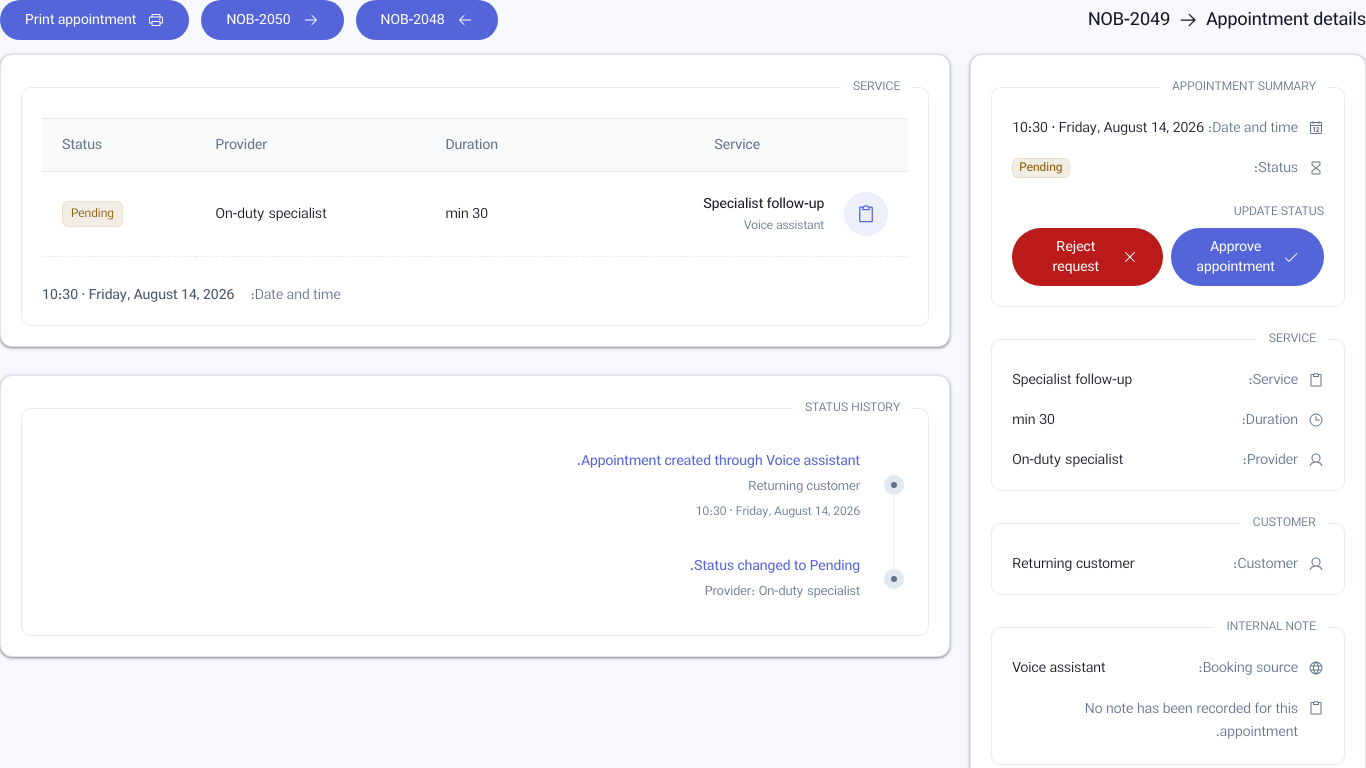
Test: reservation operations › uses the route id and enforces valid appointment status transitions
Expected: the text "NOB-2049" is shown, x1=1088 y1=6 x2=1170 y2=34
Expected: the button "Print appointment" is shown, x1=0 y1=0 x2=190 y2=40
Click the button "Approve appointment". click: (1248, 257)
box: x1=1172 y1=228 x2=1324 y2=286
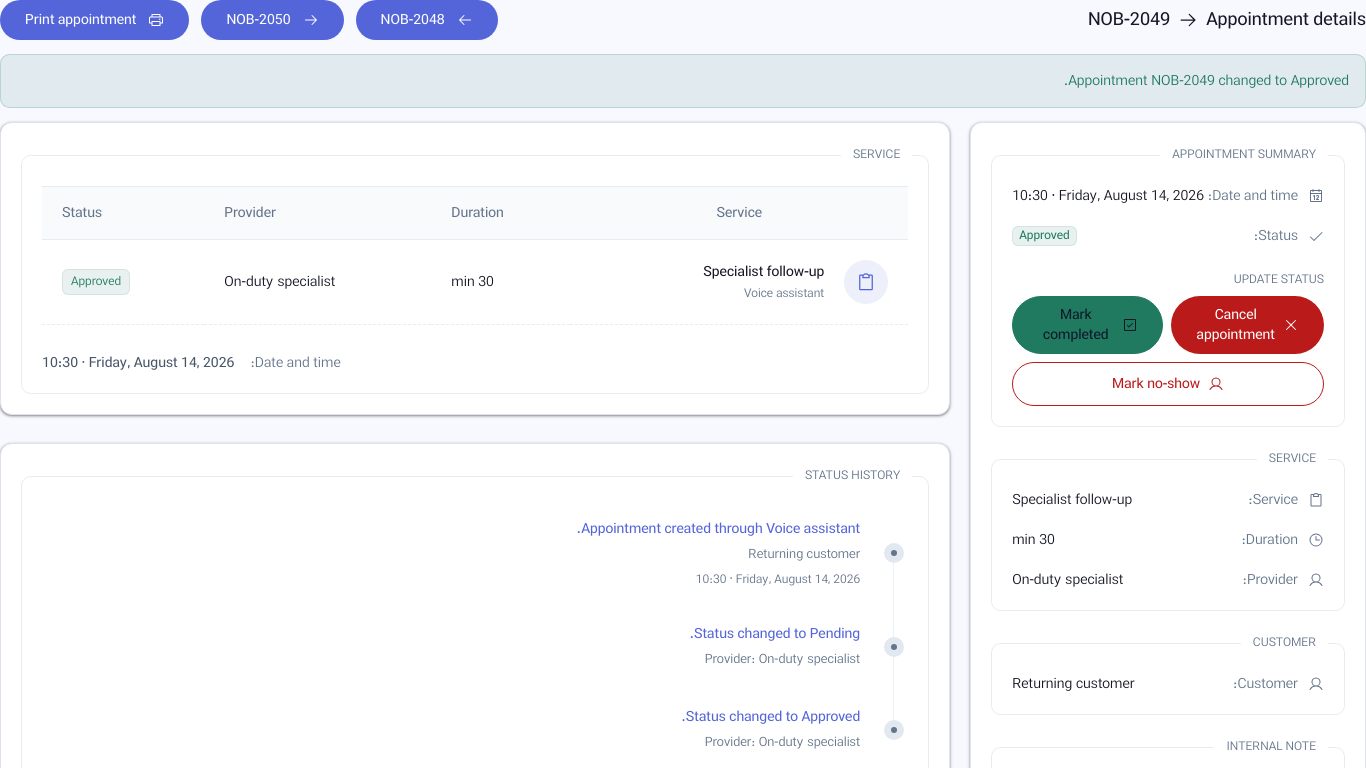
Expected: the message reads "Appointment NOB-2049 changed to Approved.", x1=1064 y1=71 x2=1349 y2=91
Click the button "Mark completed". click: (1088, 325)
box: x1=1012 y1=296 x2=1164 y2=354
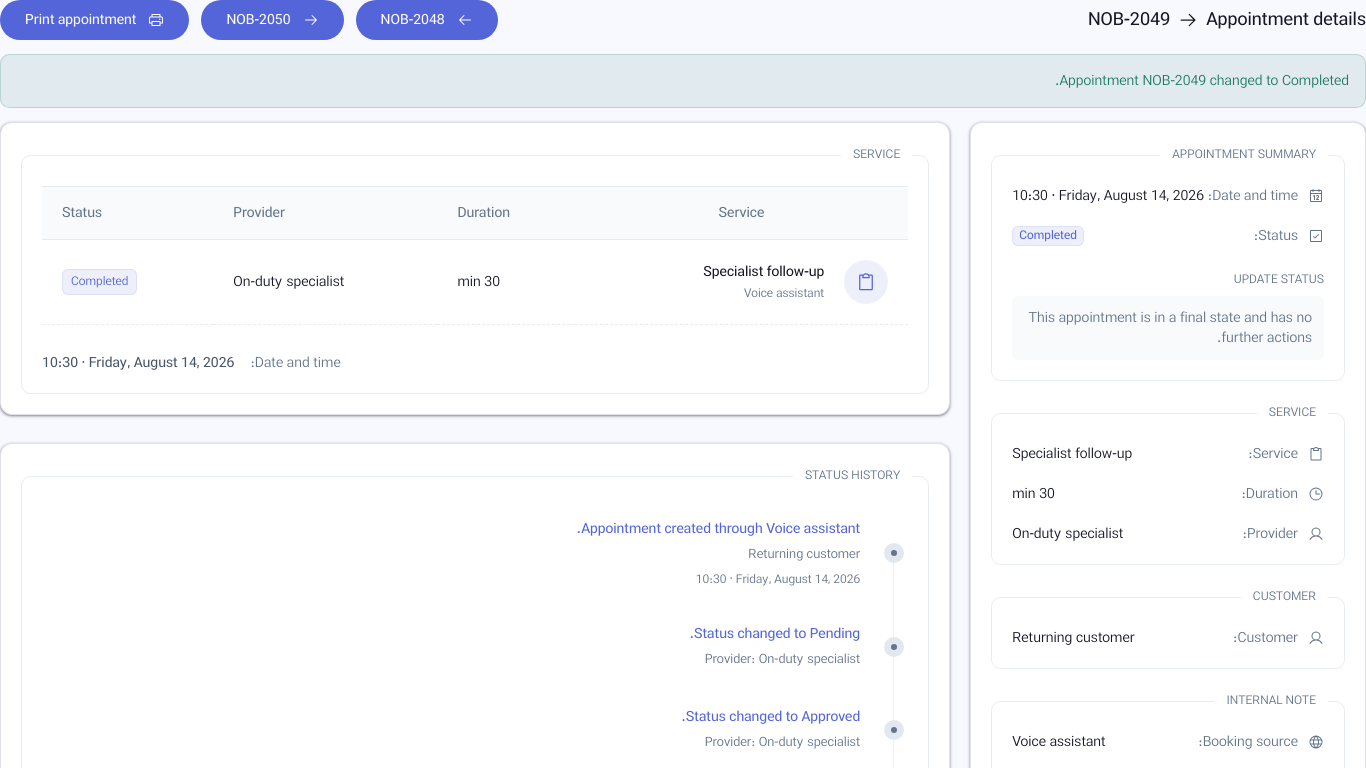
Expected: the message reads "Appointment NOB-2049 changed to Completed.", x1=1055 y1=71 x2=1349 y2=91
Expected: the text "This appointment is in a final state and has no further actions." is shown, x1=1012 y1=296 x2=1324 y2=360
